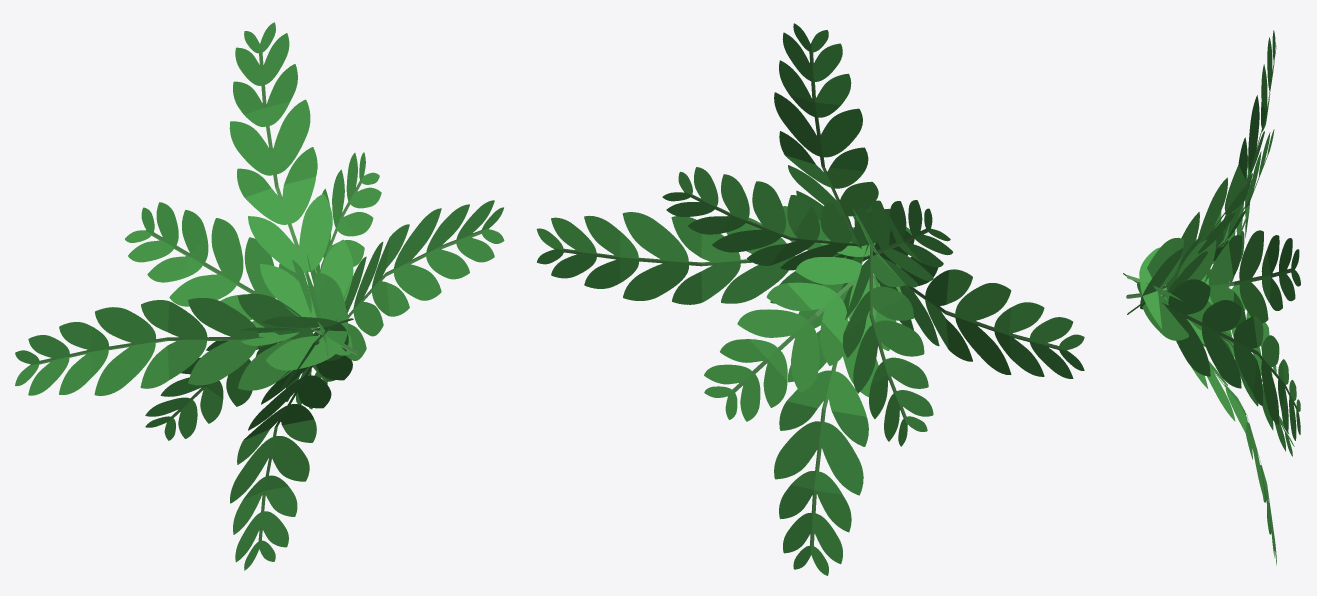
Rendered from TestNewFern.fbx.
3 renders of one model, left to right at view 1: azimuth 30°, elevation 25°; view 2: azimuth 150°, elevation 25°; view 3: azimuth 270°, elevation 25°, orthographic. The views are drawn at different scales.
Parts seen in each view (by area): view 1: Plane.007; view 2: Plane.007; view 3: Plane.007.
Boxes of the visible parts, bbox=[...] form: Plane.007: bbox=[15, 22, 504, 570]; Plane.007: bbox=[536, 23, 1084, 575]; Plane.007: bbox=[1123, 30, 1300, 565].
Size of the model in its own units: 1112 by 1113 by 359.
